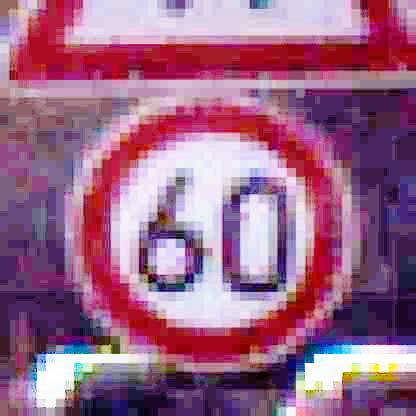Speed Limit -60-: (68, 92, 356, 367)
